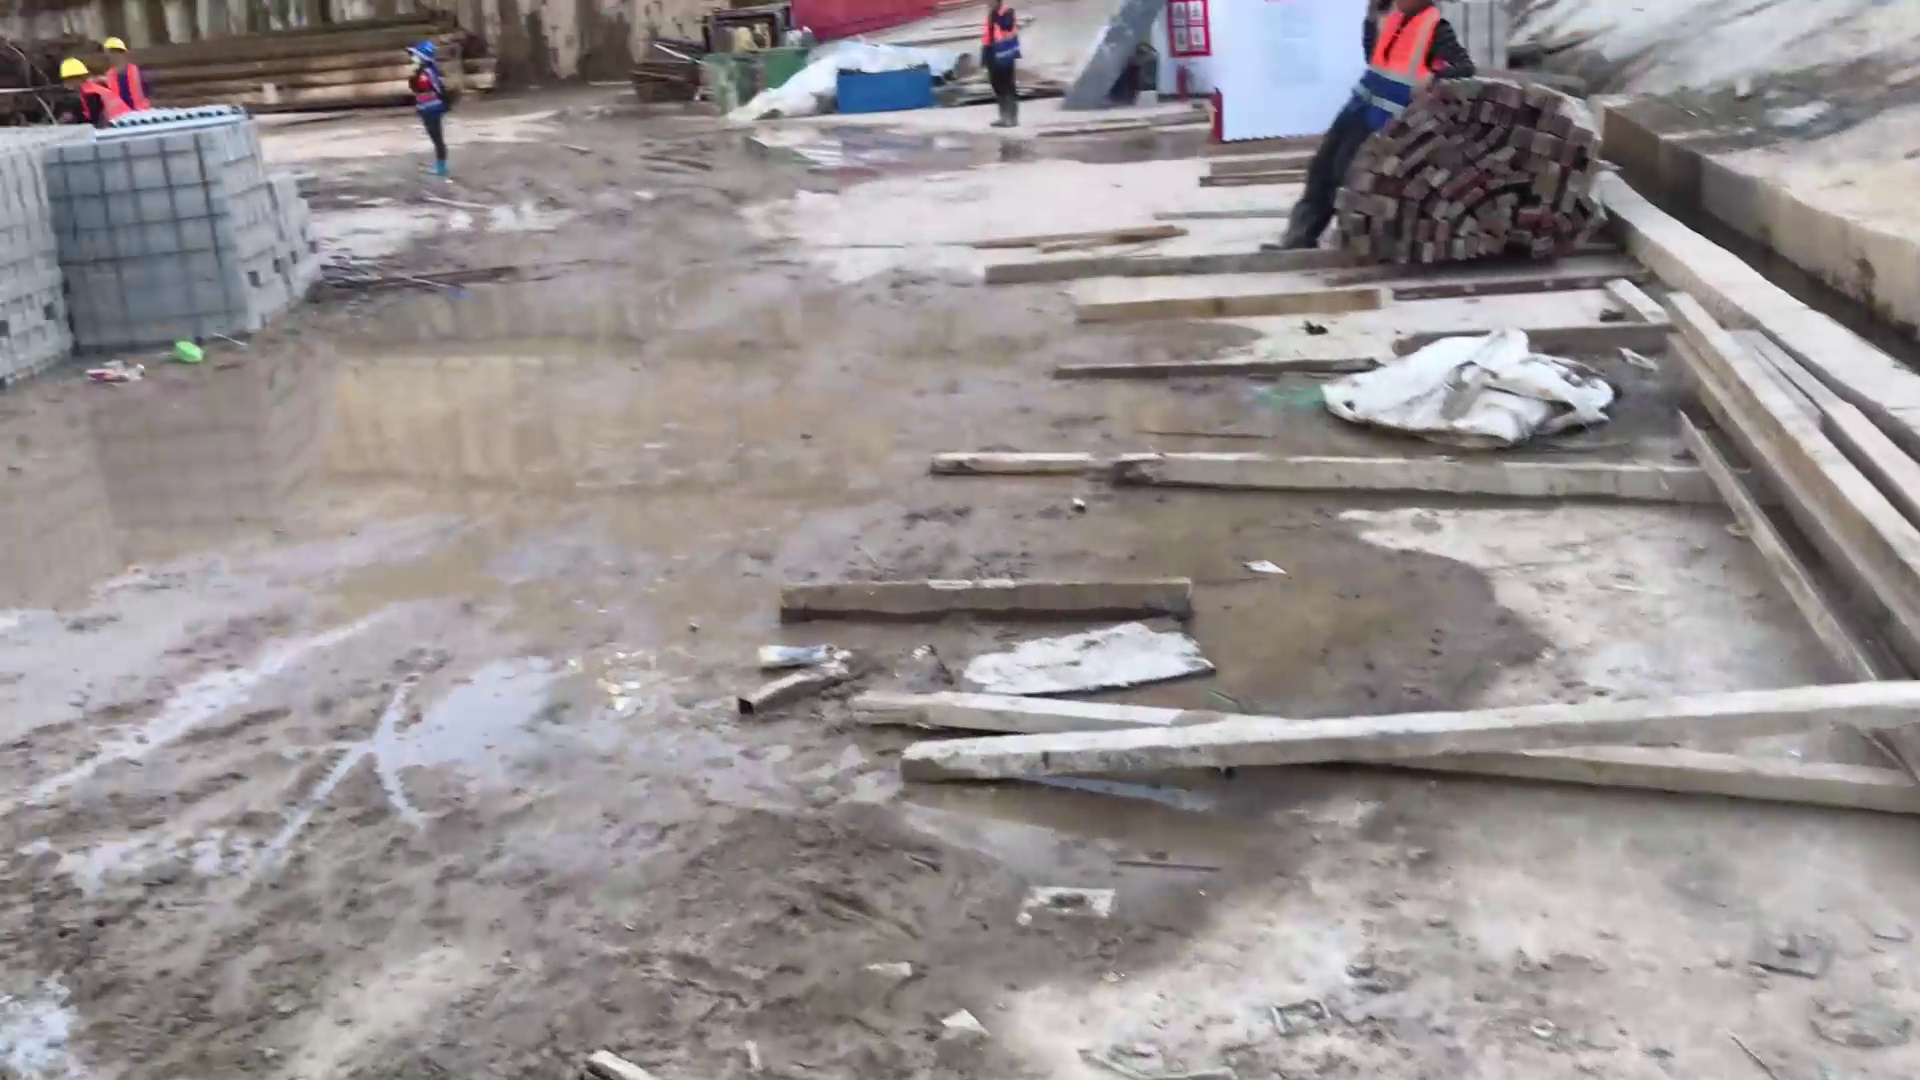helmet: (59, 49, 93, 77), (97, 26, 124, 54)
person: (1292, 1, 1474, 273), (401, 39, 463, 168), (981, 6, 1023, 115)
vest: (1344, 7, 1439, 124), (981, 8, 1023, 64), (97, 64, 148, 112), (79, 81, 125, 124), (408, 72, 438, 111)
